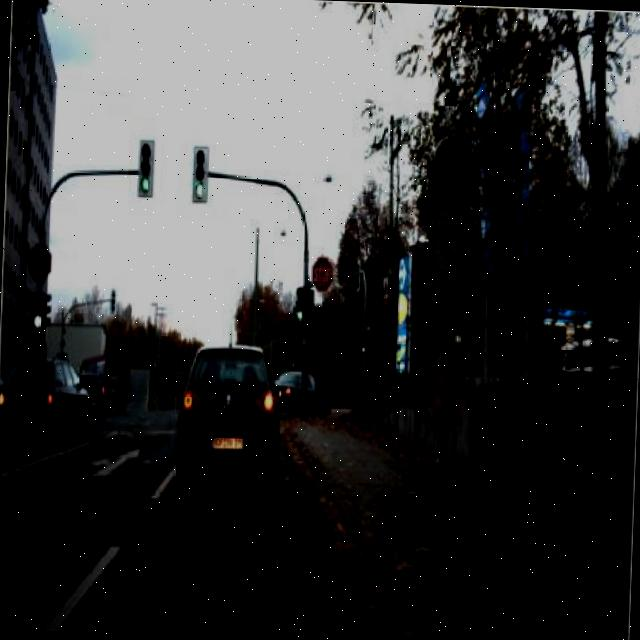Stop: (26, 240, 55, 284), (308, 255, 335, 294)
